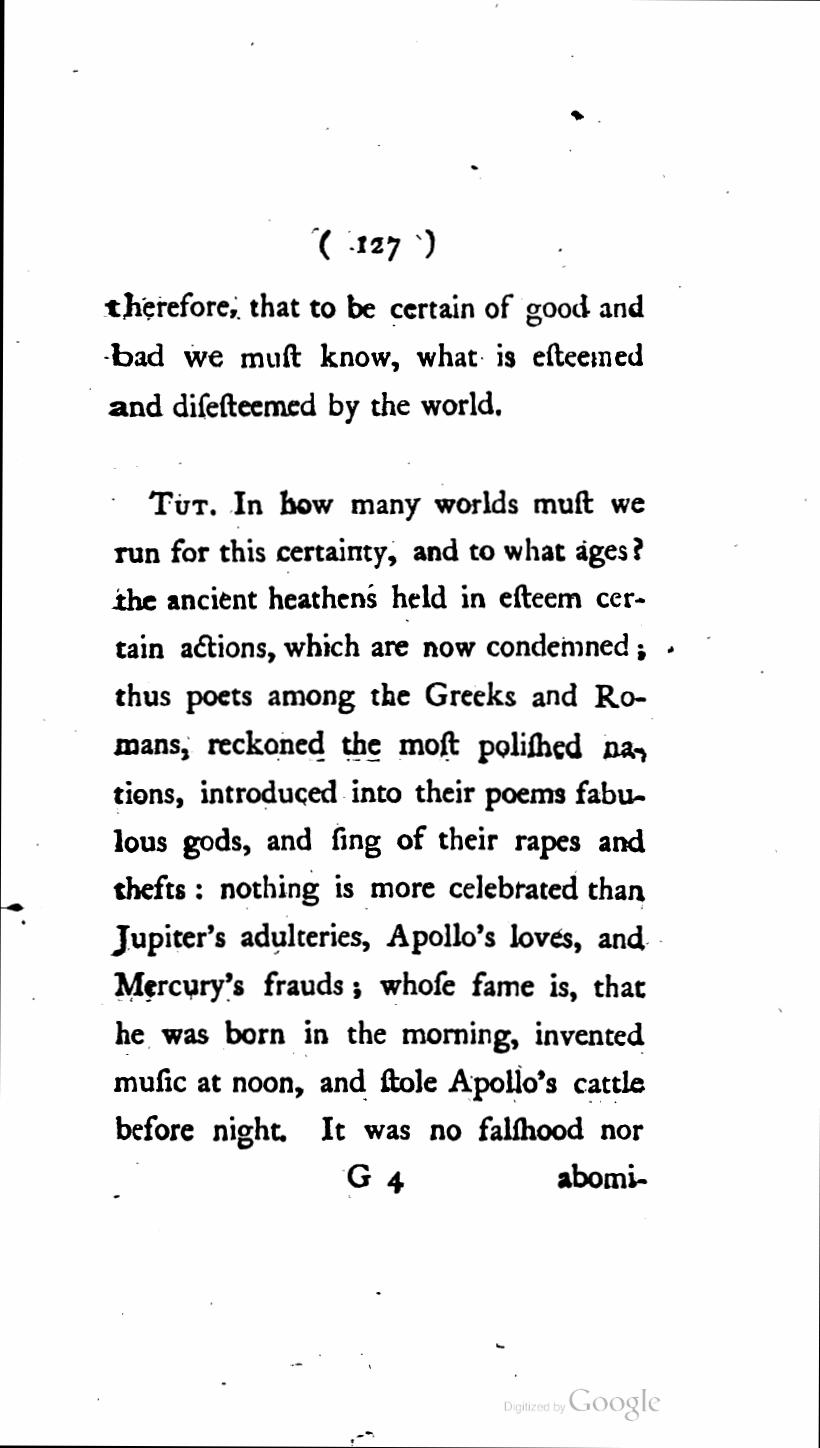bottom_p: (102, 284, 650, 424)
catchword: (554, 1158, 652, 1194)
page_num: (352, 230, 406, 262)
signature: (342, 1156, 408, 1200)
top_p: (110, 486, 654, 1148)
